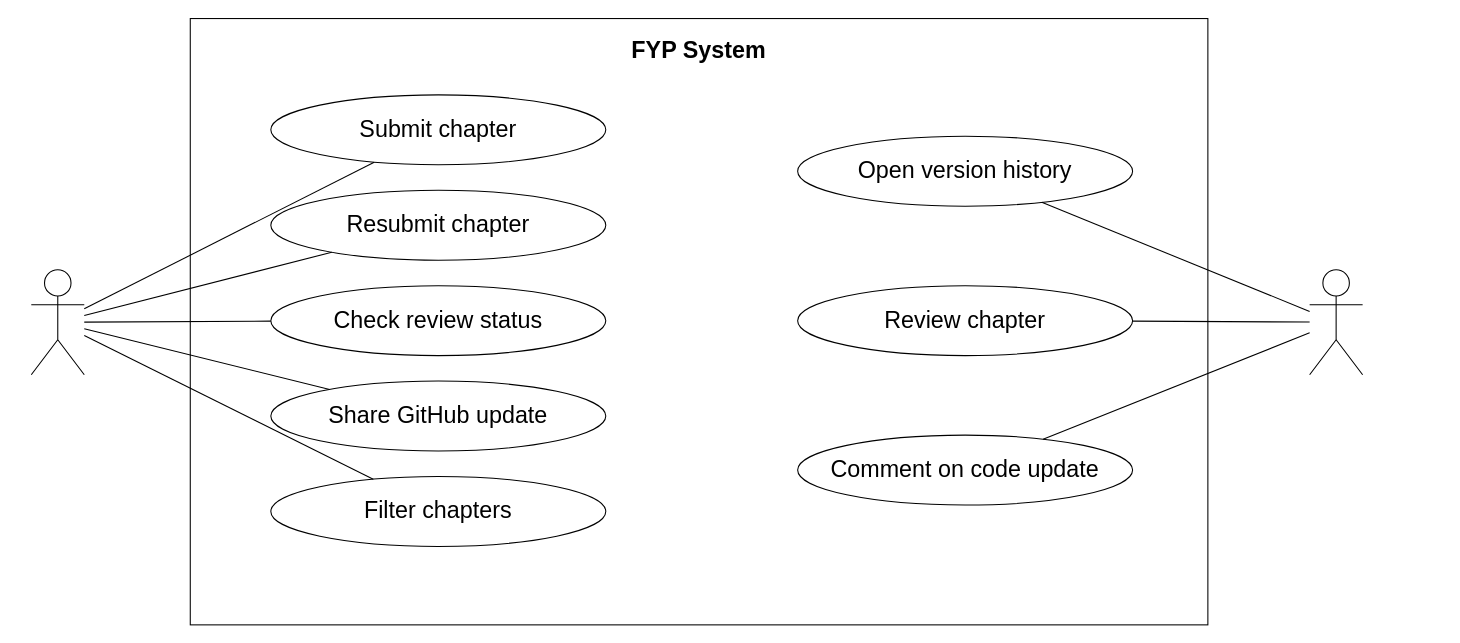
Some shapes in this 1460 by 643 pixel diagram are drawn without their labels. Each missing label, with the centre of its shape:
"Assigned supervisor" belongs at pixel 1336 322.
"Student" belongs at pixel 57 322.
